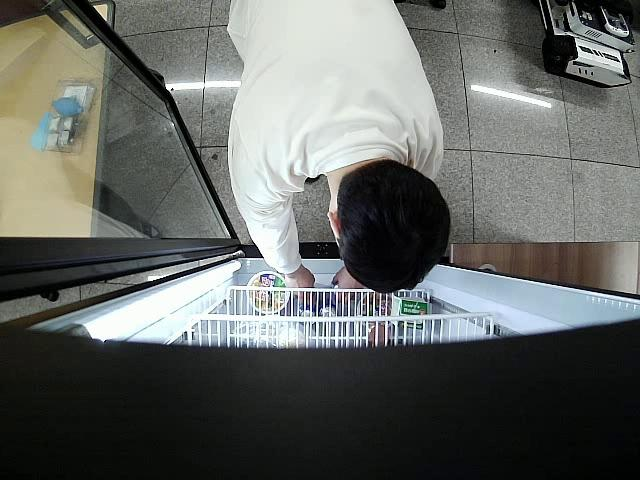00_hand: (330, 267, 365, 306), (285, 269, 316, 307)
